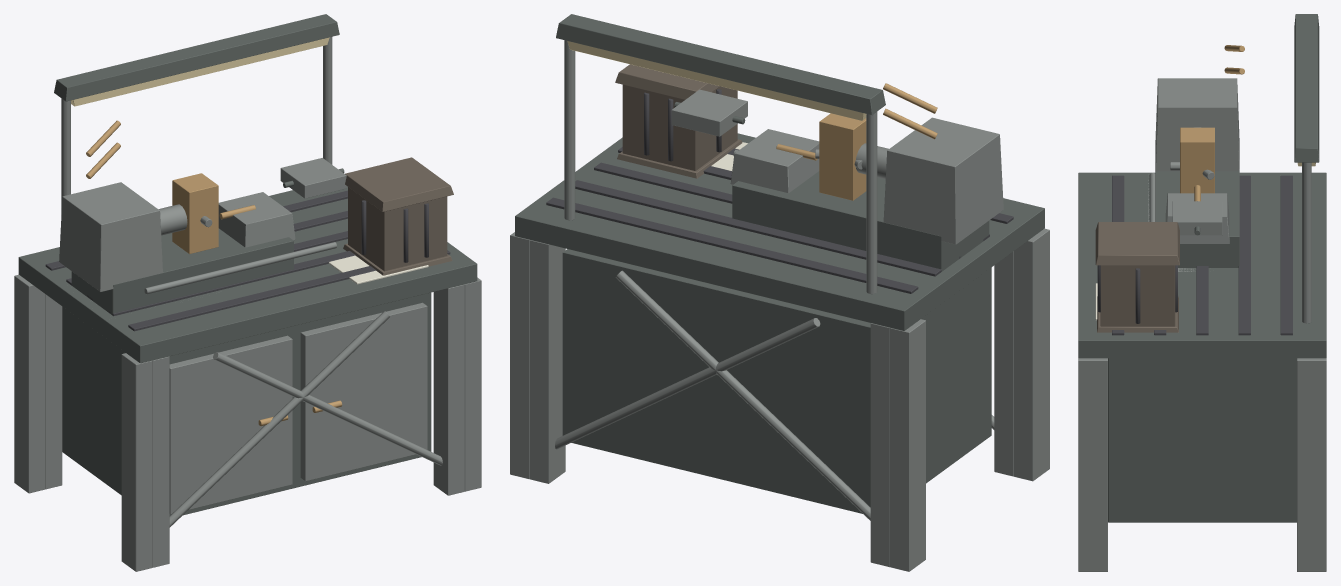
File: DD_workbench3_L3.fbx
The picture shows the model from 3 angles, left to right: view 1: azimuth 30°, elevation 25°; view 2: azimuth 150°, elevation 25°; view 3: azimuth 270°, elevation 25°; orthographic projection. The views are drawn at different scales.
Parts seen in each view (by area): view 1: DD_workbench3_L3; view 2: DD_workbench3_L3; view 3: DD_workbench3_L3.
Boxes of the visible parts, x1,y1,x2,y2 form: DD_workbench3_L3: (14, 14, 481, 571); DD_workbench3_L3: (510, 14, 1049, 571); DD_workbench3_L3: (1078, 14, 1326, 571).
Size of the model in its own units: 1.64 by 1.8 by 1.
